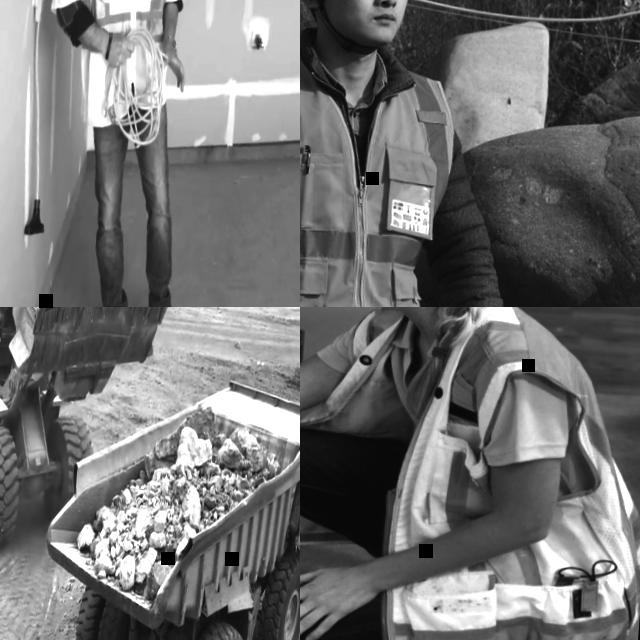NO-Mask: (322, 0, 404, 45)
Person: (300, 307, 640, 640), (300, 0, 614, 307), (26, 0, 222, 307)
Safety Vest: (300, 307, 640, 640), (300, 43, 451, 307), (48, 0, 194, 55)
machinery: (26, 359, 300, 640), (0, 307, 177, 568)
